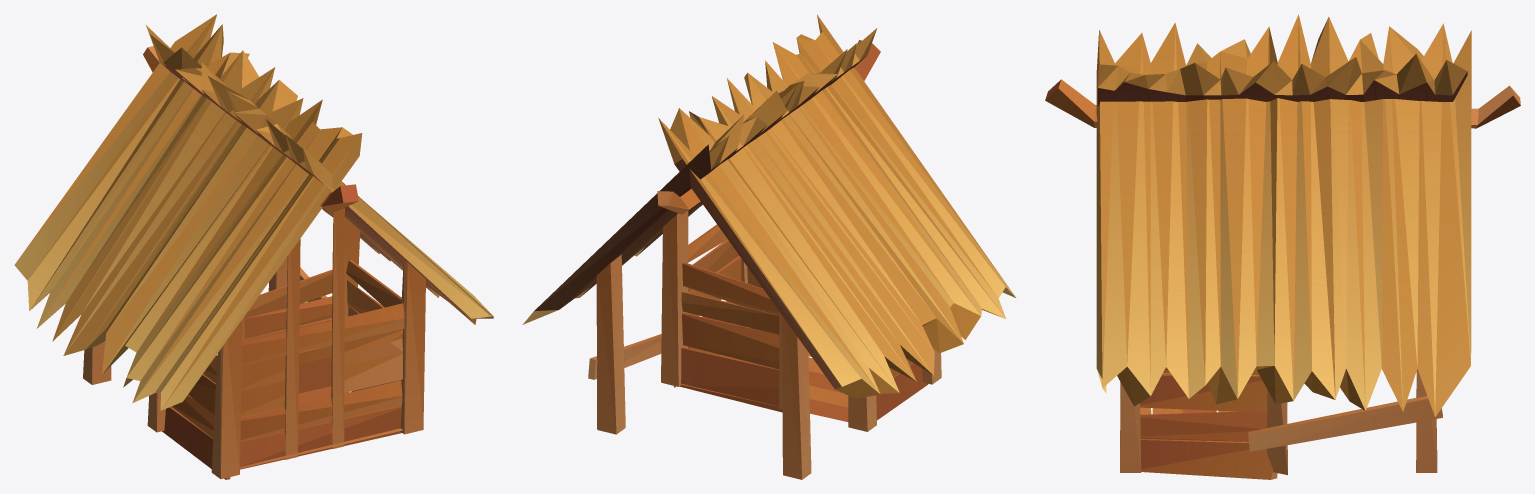
Rendered from GL-Manmade-04-LOD2.fbx.
The picture shows the model from 3 angles, left to right: view 1: azimuth 30°, elevation 25°; view 2: azimuth 150°, elevation 25°; view 3: azimuth 270°, elevation 25°; orthographic projection. The views are drawn at different scales.
Visible parts, largest first — view 1: GL_Manmade_04; view 2: GL_Manmade_04; view 3: GL_Manmade_04.
Boxes of the visible parts, left/top/right/bottom form: GL_Manmade_04: left=14, top=14, right=493, bottom=479; GL_Manmade_04: left=522, top=14, right=1015, bottom=479; GL_Manmade_04: left=1045, top=14, right=1520, bottom=479.
Bounding box in the file's own units: 1.48 × 1.36 × 1.49.
